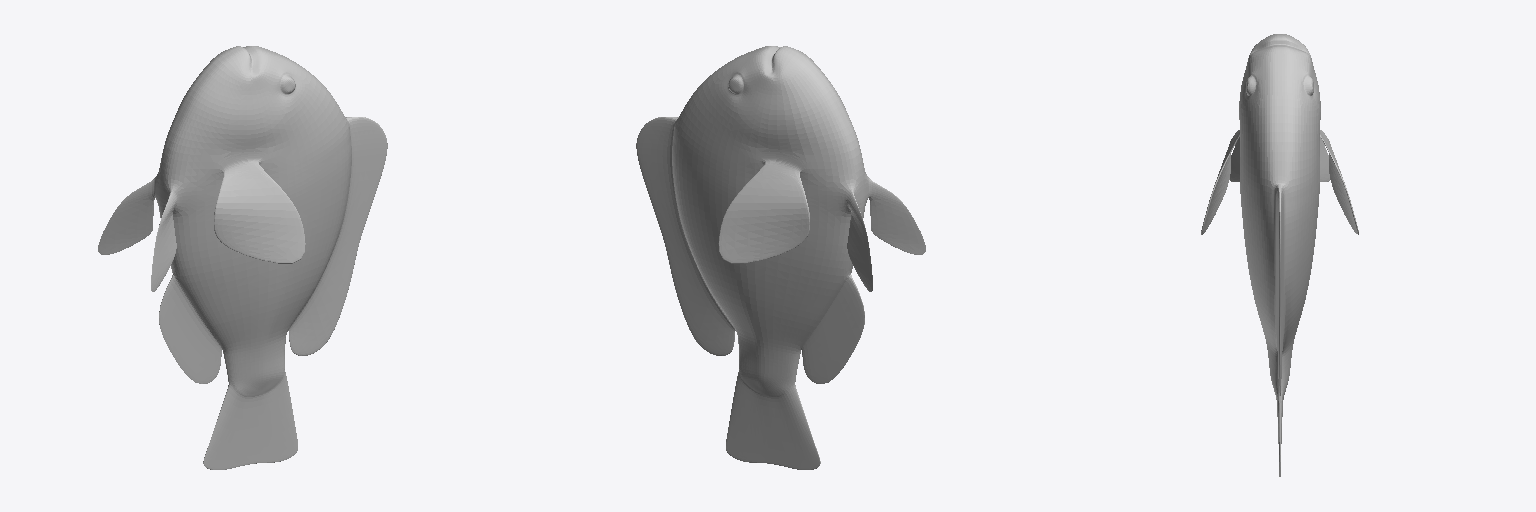
The picture shows the model from 3 angles: view 1: azimuth 30°, elevation 25°; view 2: azimuth 150°, elevation 25°; view 3: azimuth 270°, elevation 25°; orthographic projection.
Parts seen in each view (by area): view 1: 12265_Fish_v1_L2.001; view 2: 12265_Fish_v1_L2.001; view 3: 12265_Fish_v1_L2.001.
Part boxes in pixels (bbox=[...]): 12265_Fish_v1_L2.001: bbox=[98, 46, 387, 469]; 12265_Fish_v1_L2.001: bbox=[636, 46, 925, 469]; 12265_Fish_v1_L2.001: bbox=[1201, 34, 1358, 476].
Size of the model in its own units: 2.24 by 3.44 by 1.16.